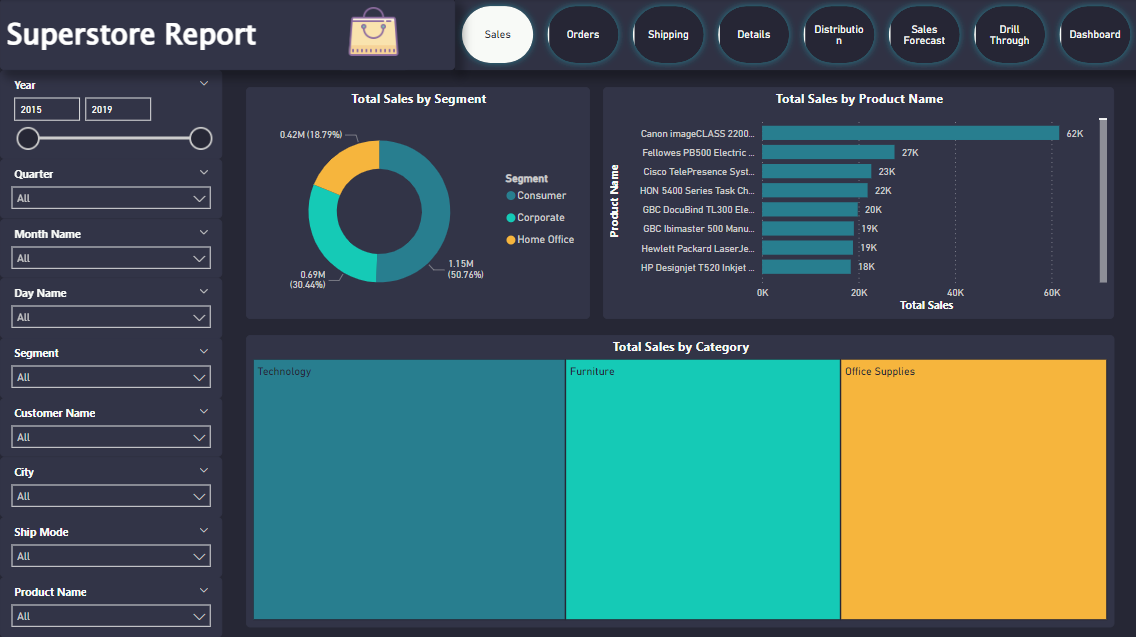

The page's visual inventory and layout, read from the dashboard file:
{"tool":"powerbi","page":{"name":"Sales","canvas":[1280,720],"ordinal":0},"visuals":[{"type":"treemap","fields":{"Values":["Dax Measure.Total Sales"],"Group":["Dim_ProductDetails.Category","Dim_ProductDetails.Sub-Category","Dim_ProductDetails.Product Name"]},"box":[276.8,378,976.5,328.5],"z":0},{"type":"clusteredBarChart","fields":{"Category":["Dim_ProductDetails.Product Name"],"Y":["Dax Measure.Total Sales"]},"box":[678.4,99,574.9,261],"z":1000},{"type":"donutChart","fields":{"Y":["Dax Measure.Total Sales"],"Category":["Dim_Customers.Segment"]},"box":[276.8,99,387,261],"z":2000},{"type":"pageNavigator","title":"dfsfsd","box":[512,0,768,80],"z":3000},{"type":"slicer","fields":{"Values":["Dim_date.Year"]},"box":[0,79.9,250,100],"z":4000},{"type":"slicer","fields":{"Values":["Dim_date.Quarter"]},"box":[0,180,250,67],"z":5000},{"type":"slicer","fields":{"Values":["Dim_date.Month Name"]},"box":[0,247.5,249.8,66.4],"z":6000},{"type":"slicer","fields":{"Values":["Dim_Customers.Segment"]},"box":[0,381.4,249.8,67.5],"z":7000},{"type":"slicer","fields":{"Values":["Dim_places.City"]},"box":[0,515.2,249.8,67.5],"z":8000},{"type":"slicer","fields":{"Values":["Dim_date.Day Name"]},"box":[0,313.9,249.8,67.5],"z":9000},{"type":"slicer","fields":{"Values":["Dim_Customers.Customer Name"]},"box":[0,448.9,249.8,66.4],"z":10000},{"type":"textbox","box":[0,0,511.9,79.9],"z":11000},{"type":"image","box":[380.2,0,79.9,79.9],"z":12000},{"type":"slicer","fields":{"Values":["Dim_ShipMode.Ship Mode"]},"box":[0,582.8,249.8,67.5],"z":13000},{"type":"slicer","fields":{"Values":["Dim_ProductDetails.Product Name"]},"box":[0,650.2,249.8,67.5],"z":14000}]}

Visuals, with their boxes in screenshot pixels (x1, y1, x2, y2), scaled from the page's 1280x720 canvas onto the 1136x637 screenshot:
treemap - Dax Measure.Total Sales x Dim_ProductDetails.Category: l=246, t=334, r=1112, b=625
clusteredBarChart - Dim_ProductDetails.Product Name x Dax Measure.Total Sales: l=602, t=88, r=1112, b=318
donutChart - Dax Measure.Total Sales x Dim_Customers.Segment: l=246, t=88, r=589, b=318
"dfsfsd" pageNavigator: l=454, t=0, r=1135, b=71
slicer - Dim_date.Year: l=0, t=71, r=222, b=159
slicer - Dim_date.Quarter: l=0, t=159, r=222, b=219
slicer - Dim_date.Month Name: l=0, t=219, r=222, b=278
slicer - Dim_Customers.Segment: l=0, t=337, r=222, b=397
slicer - Dim_places.City: l=0, t=456, r=222, b=516
slicer - Dim_date.Day Name: l=0, t=278, r=222, b=337
slicer - Dim_Customers.Customer Name: l=0, t=397, r=222, b=456
textbox: l=0, t=0, r=454, b=71
image: l=337, t=0, r=408, b=71
slicer - Dim_ShipMode.Ship Mode: l=0, t=516, r=222, b=575
slicer - Dim_ProductDetails.Product Name: l=0, t=575, r=222, b=635
